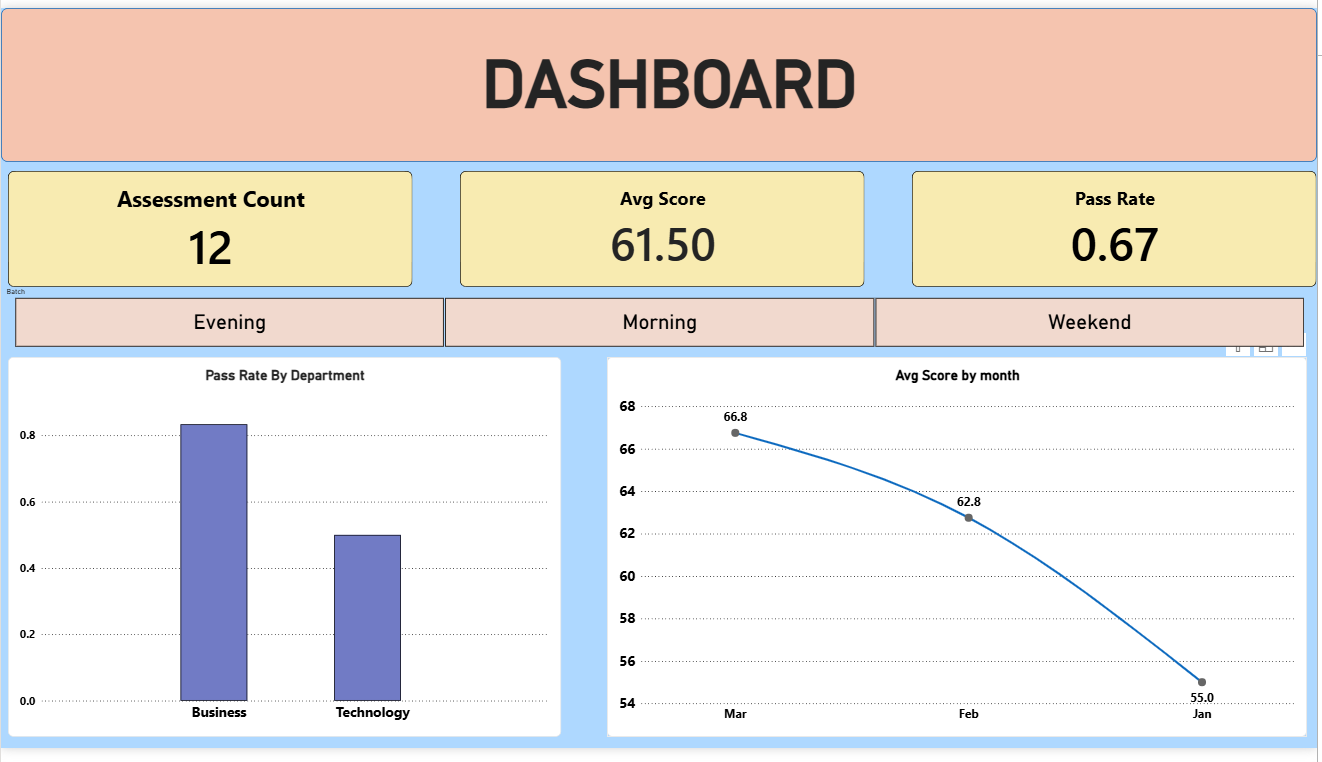

Layout of this report page (visuals, bound fields, positions):
{"tool":"powerbi","page":{"name":"DashBoard","canvas":[1920,1080],"ordinal":0},"visuals":[{"type":"shape","box":[0,0,1920,224.7],"z":0},{"type":"textbox","box":[691.6,54,567.5,116.7],"z":1000},{"type":"cardVisual","fields":{"Data":["Measure.Assessment Count"]},"box":[10.2,237.8,590.9,169.2],"z":2000},{"type":"cardVisual","fields":{"Data":["Measure.Avg Score"]},"box":[669.7,237.8,590.9,169.2],"z":3000},{"type":"cardVisual","fields":{"Data":["Measure.Pass Rate"]},"box":[1329.1,237.8,590.9,169.2],"z":4000},{"type":"columnChart","title":"Pass Rate By Department","fields":{"Category":["courses.department"],"Y":["Measure.Pass Rate"]},"box":[10.2,509.2,806.8,554.4],"z":5000},{"type":"lineChart","fields":{"Category":["assessments.month"],"Y":["Measure.Avg Score"]},"box":[884.1,509.2,1021.3,554.4],"z":6000},{"type":"slicer","fields":{"Values":["assessments.batch"]},"box":[0,407.1,1920,89],"z":7000}]}

Visuals, with their boxes in screenshot pixels (x1, y1, x2, y2), scaled from the page's 1920x1080 canvas onto the 1322x762 screenshot:
shape: 0,0,1321,159
textbox: 476,38,867,120
cardVisual - Measure.Assessment Count: 7,168,414,287
cardVisual - Measure.Avg Score: 461,168,868,287
cardVisual - Measure.Pass Rate: 915,168,1321,287
"Pass Rate By Department" columnChart: 7,359,563,750
lineChart - assessments.month x Measure.Avg Score: 609,359,1312,750
slicer - assessments.batch: 0,287,1321,350
